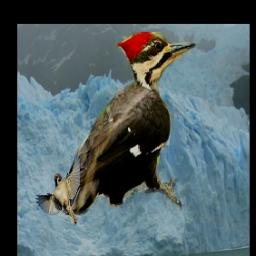Sparrow: (34, 153, 80, 226)
Woodpecker: (62, 32, 198, 215)
